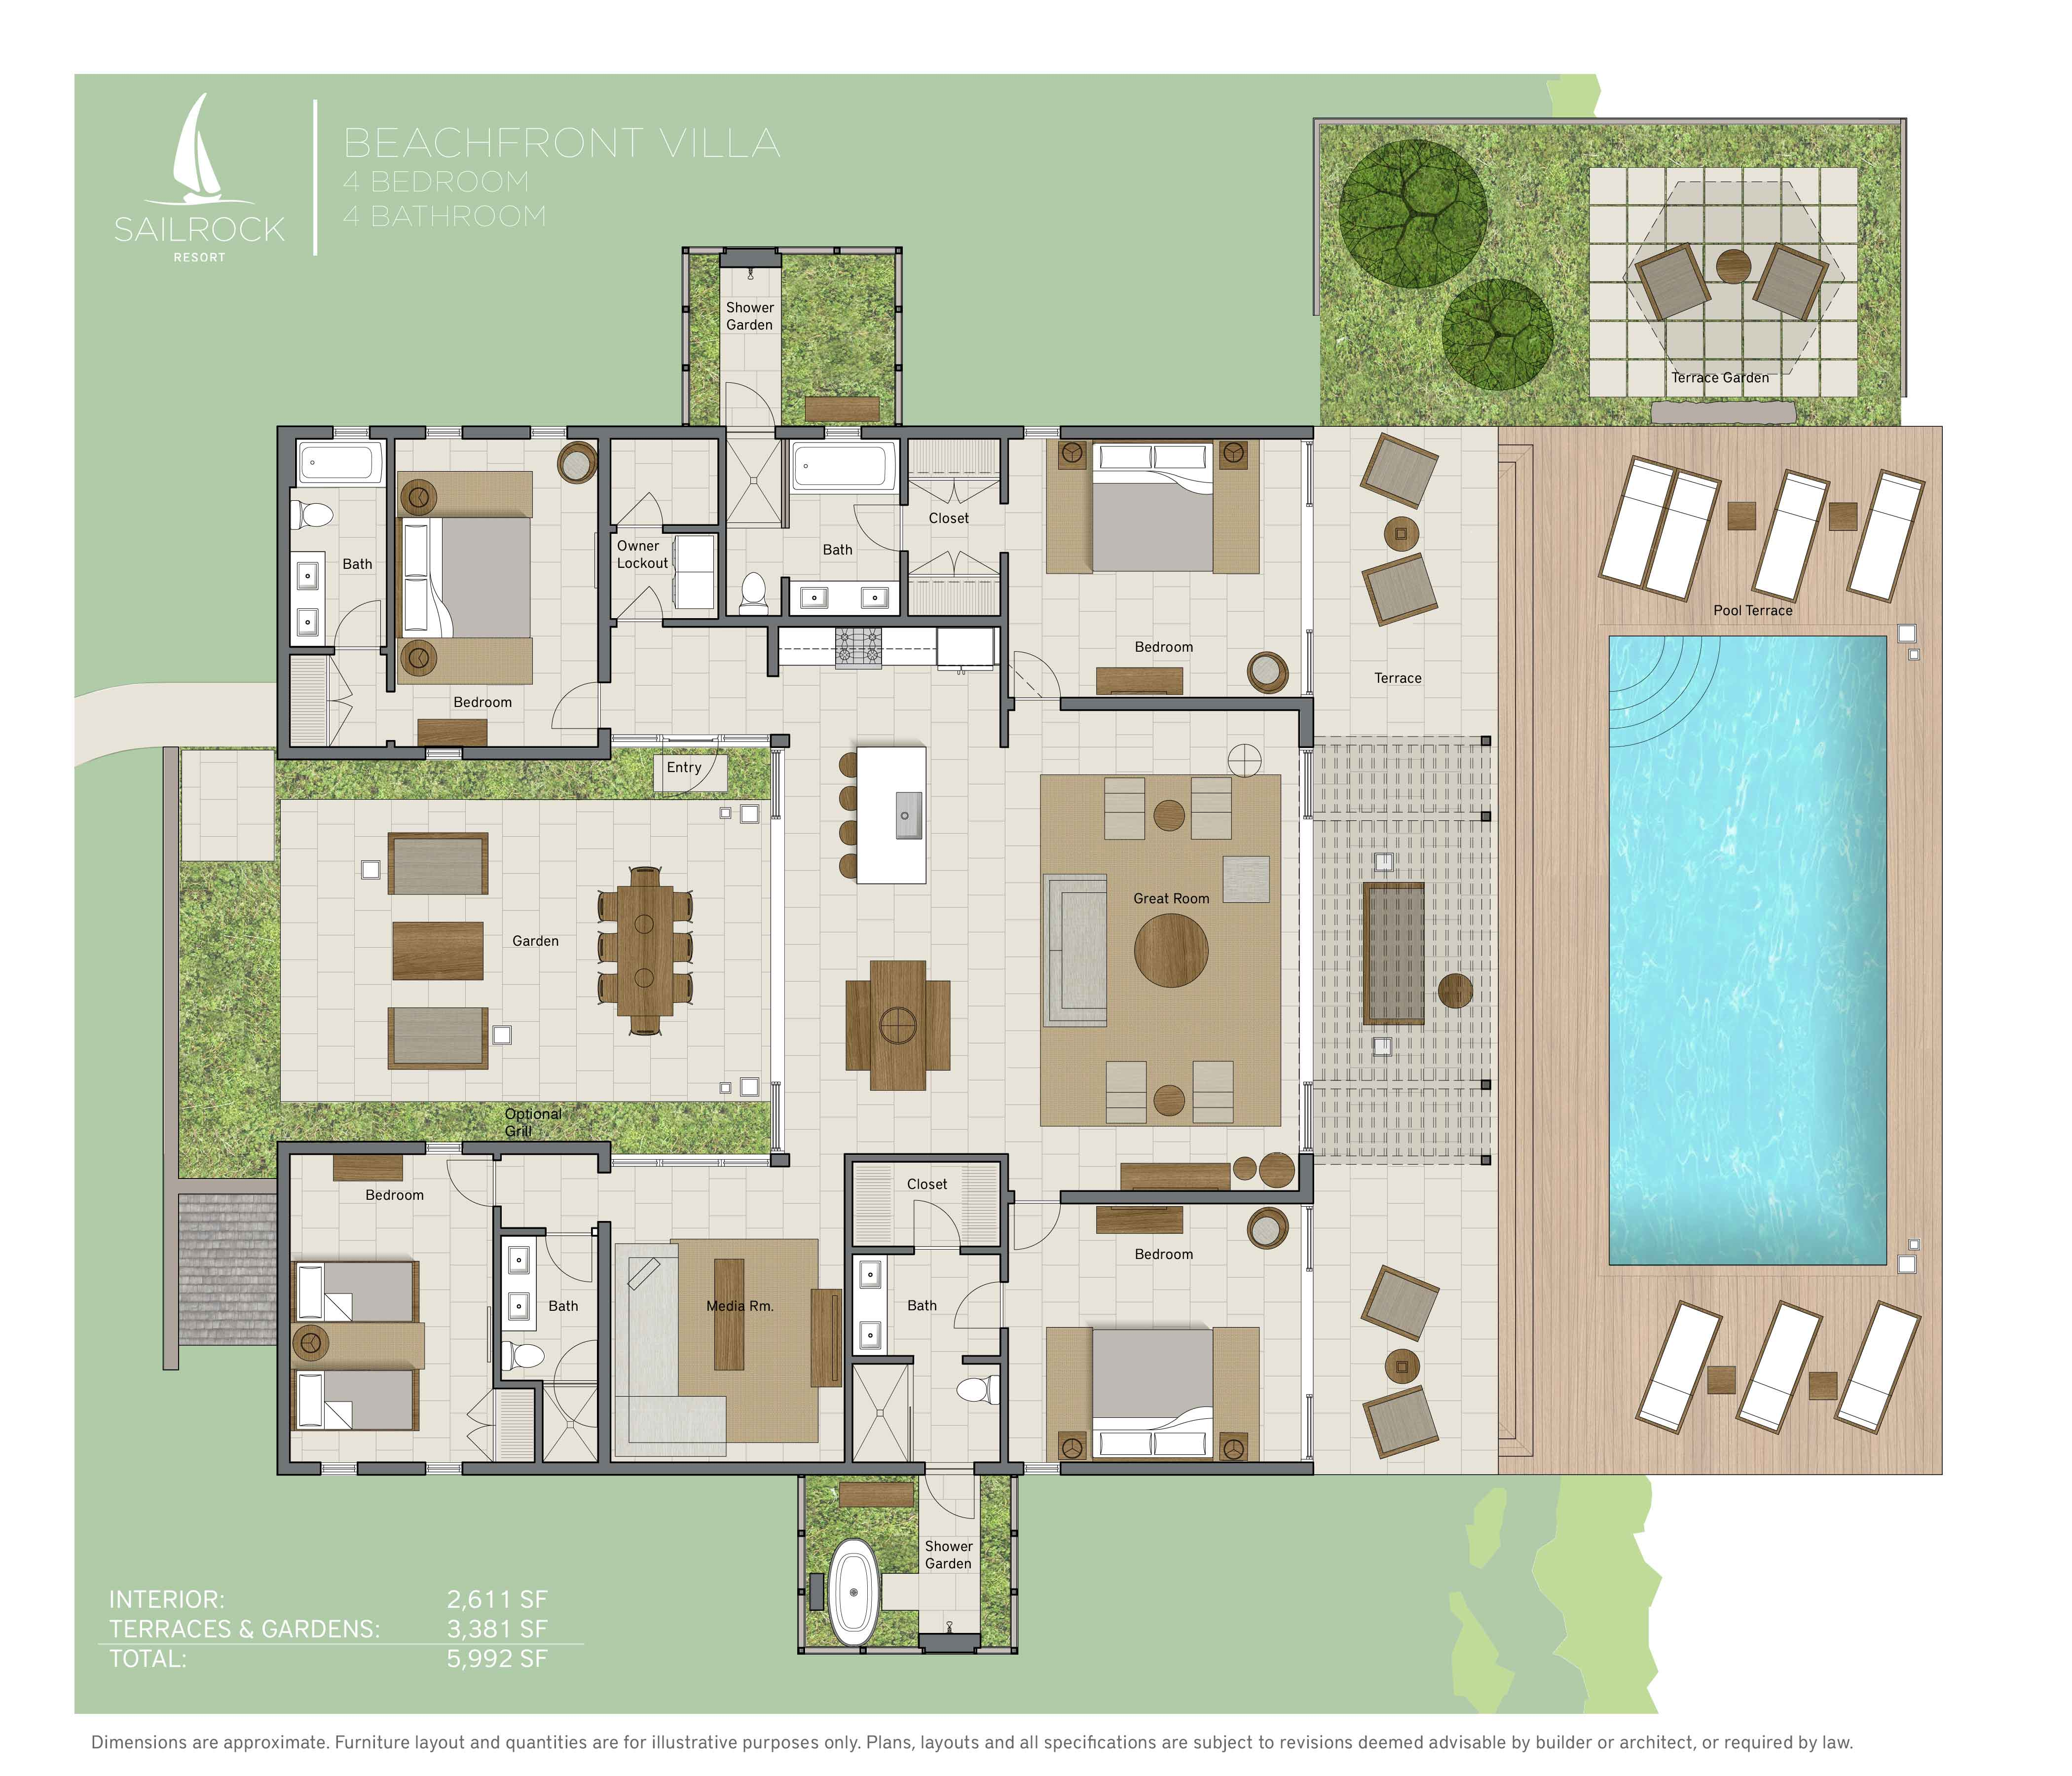window: (317, 1459, 361, 1478), (421, 1138, 465, 1158), (421, 1459, 463, 1478), (1020, 1461, 1066, 1478), (529, 425, 569, 442), (821, 425, 862, 442), (331, 425, 372, 440), (423, 425, 463, 440), (1022, 425, 1062, 440)
